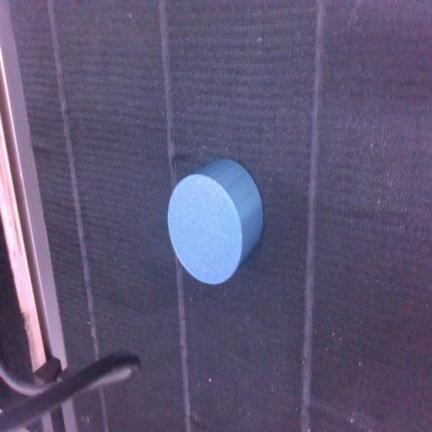cylinder: (167, 159, 262, 284)
